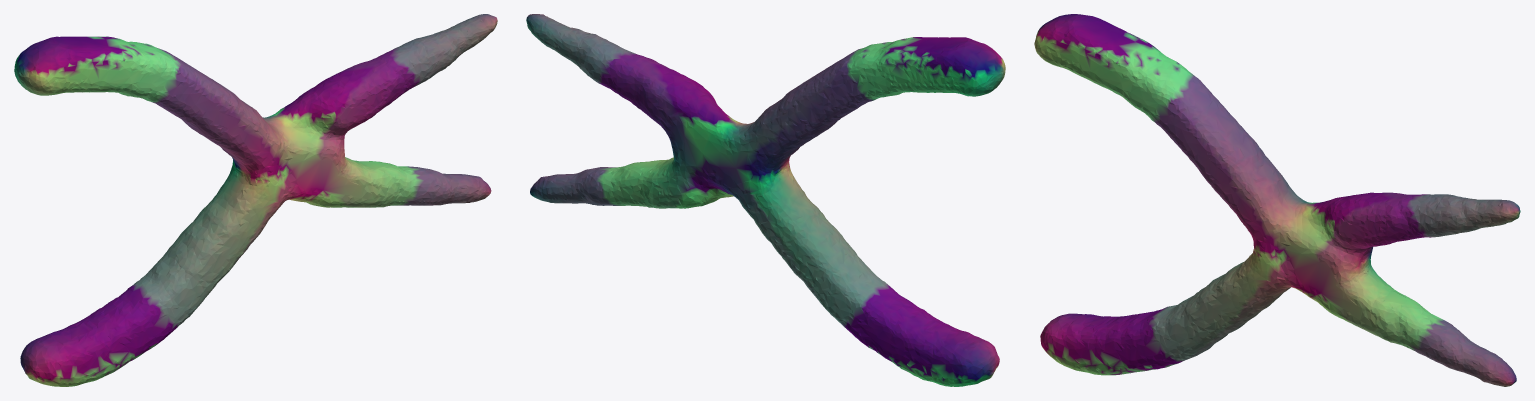
Rendered from pliers-18.off.obj.
The picture shows the model from 3 angles, left to right: view 1: azimuth 30°, elevation 25°; view 2: azimuth 150°, elevation 25°; view 3: azimuth 330°, elevation 25°; orthographic projection.
Size of the model in its own units: 1.57 by 1.08 by 0.173.
